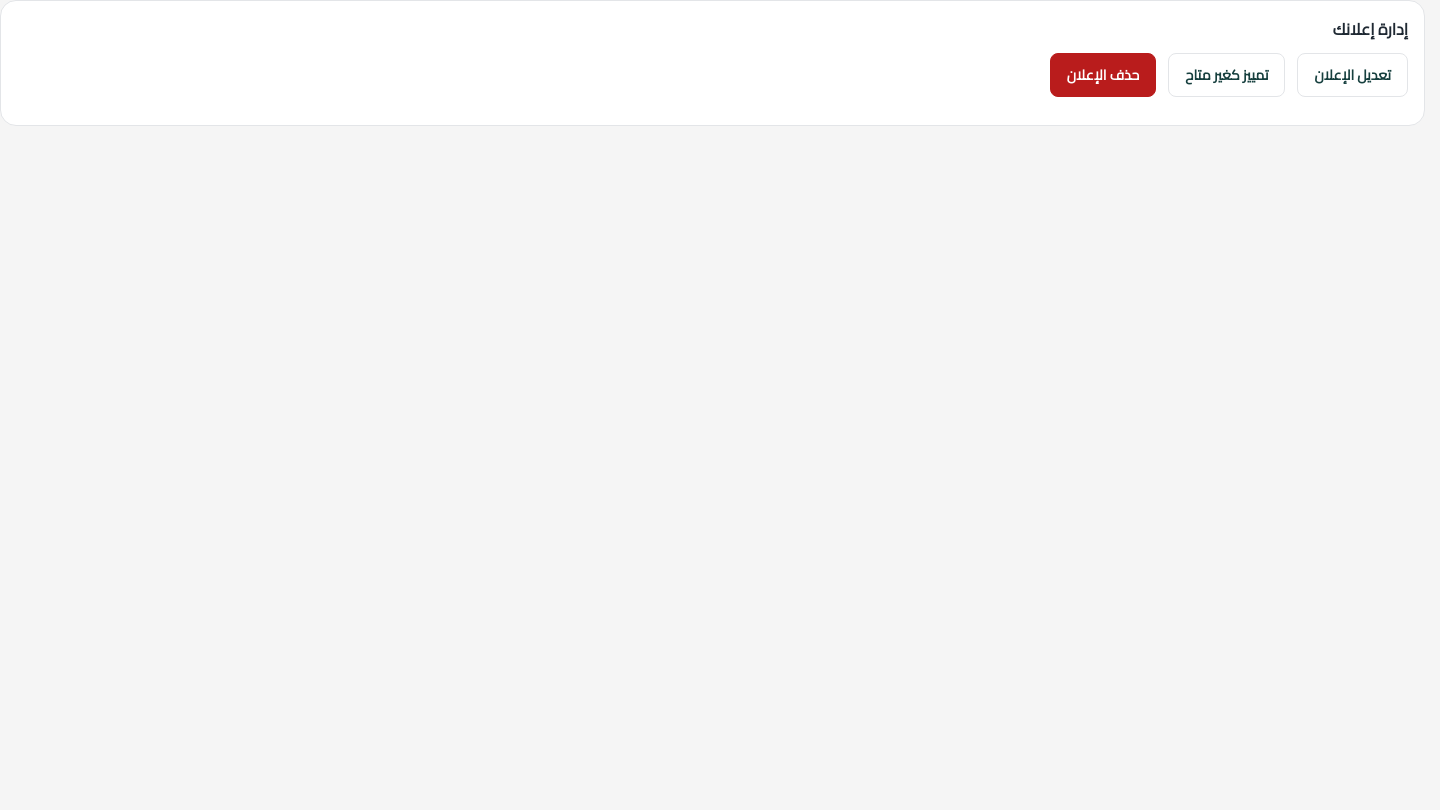
shows a fallback error and clears it when reopening the confirmation
Later steps or results of the test are not shown.
Click the button "حذف الإعلان".
click(1103, 75)  # box [1050,53,1156,97]
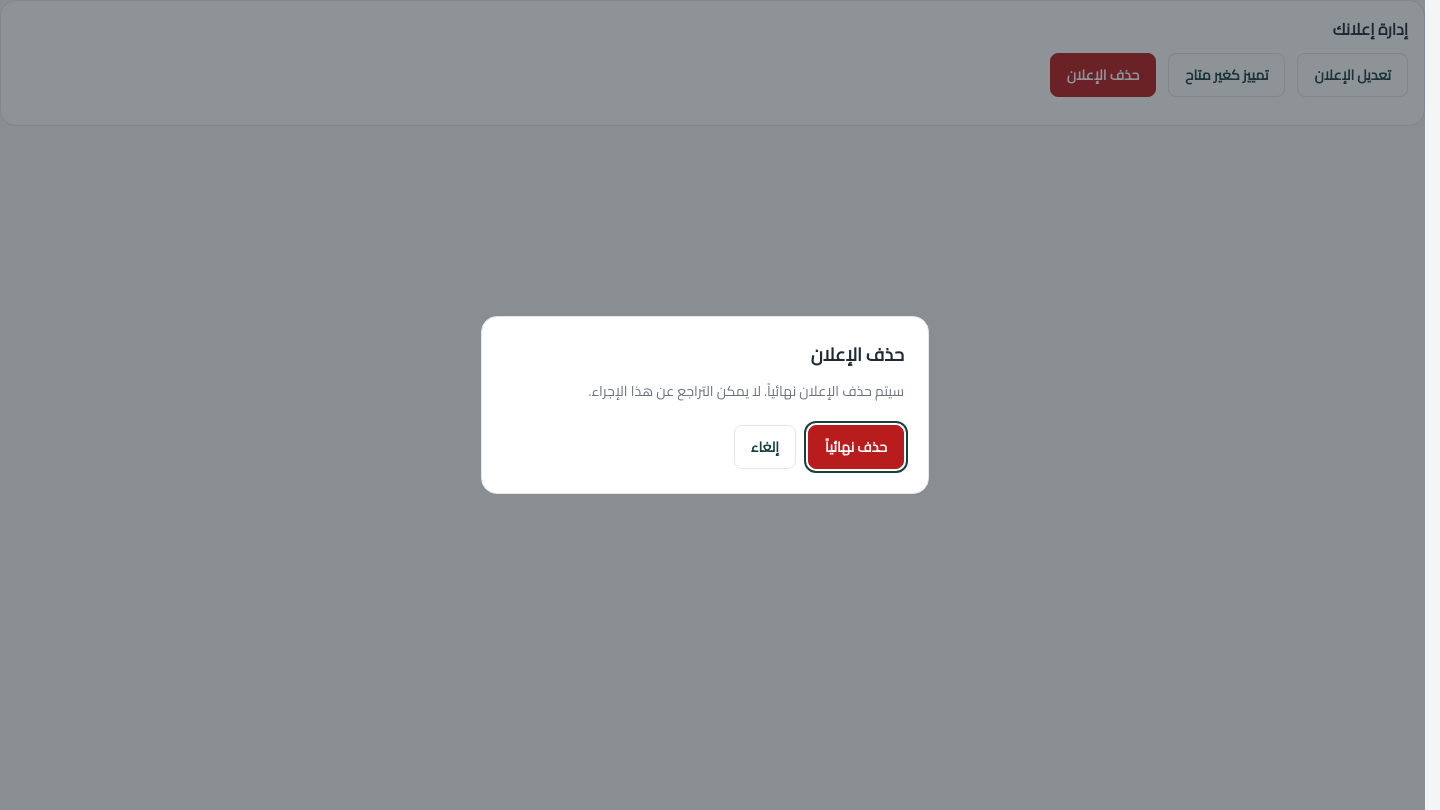
Click the button "حذف نهائياً".
click(856, 447)  # box [808,425,904,469]
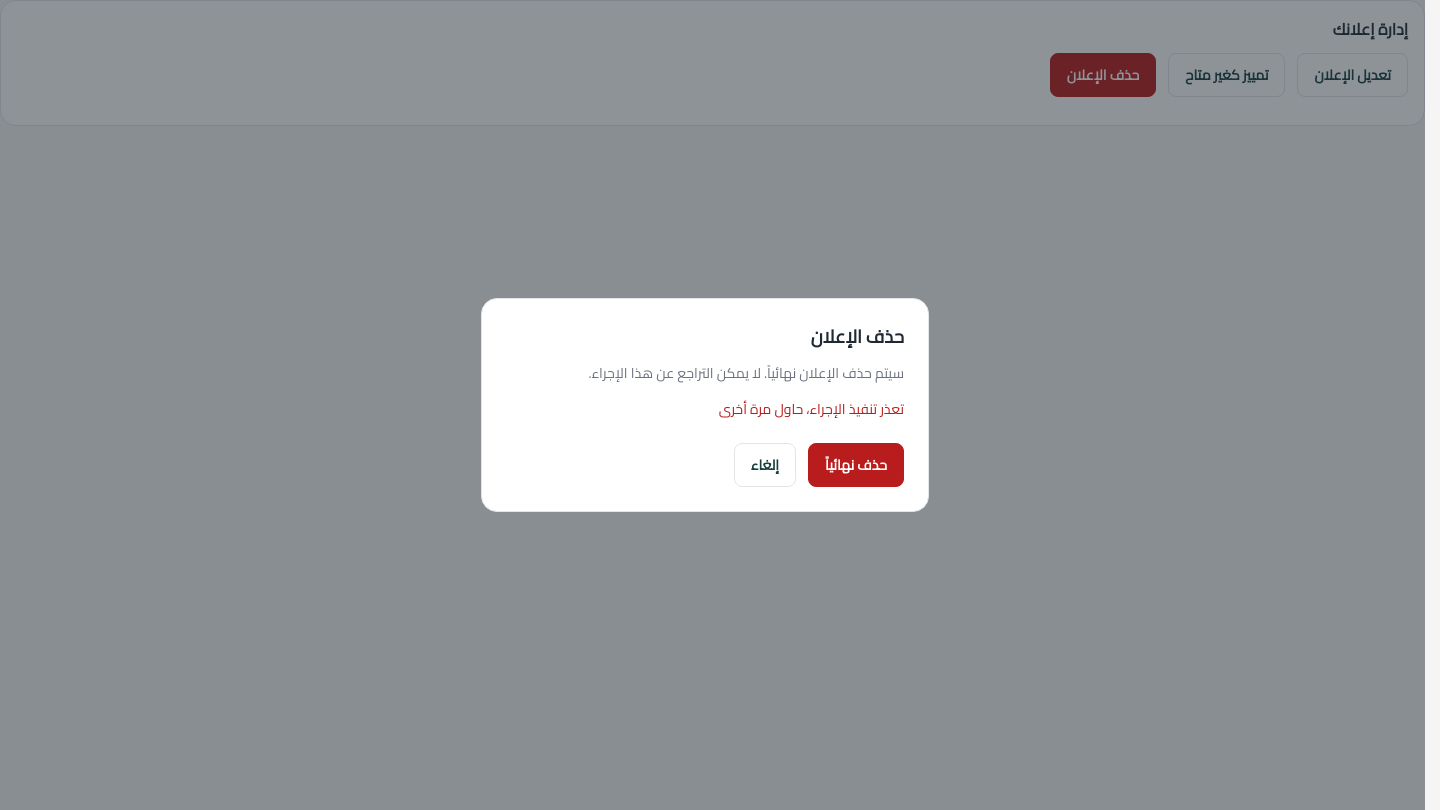
Now the message reads "تعذر تنفيذ الإجراء، حاول مرة أخرى", box [719,396,904,422]
